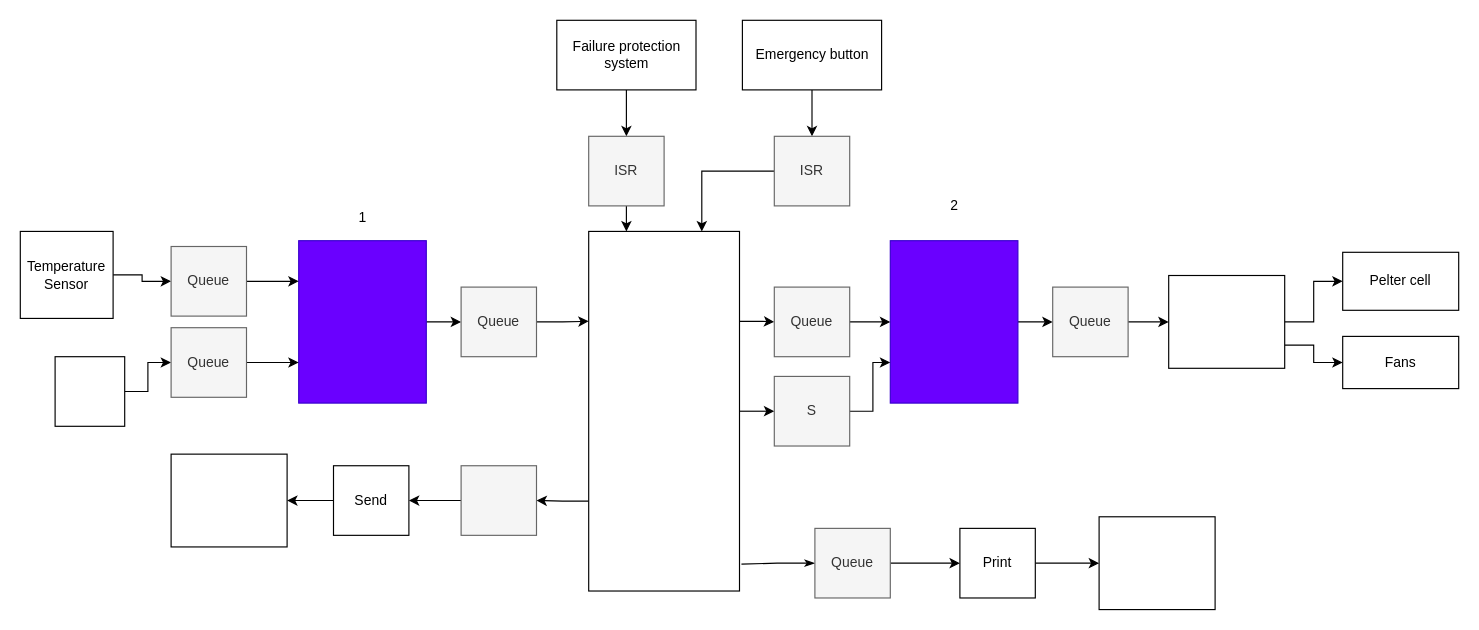
This 1479x630 diagram has some shape labels left out. Each missing label, with the box of its shape:
Application: (588, 230, 740, 591)
CAN: (170, 453, 287, 547)
LCD: (1098, 516, 1215, 610)
PID: (1168, 274, 1285, 368)
Pot: (54, 356, 125, 426)
Proccess input task: (298, 240, 426, 403)
Process outputs task: (889, 240, 1018, 403)
Stream buffer: (460, 465, 536, 535)
